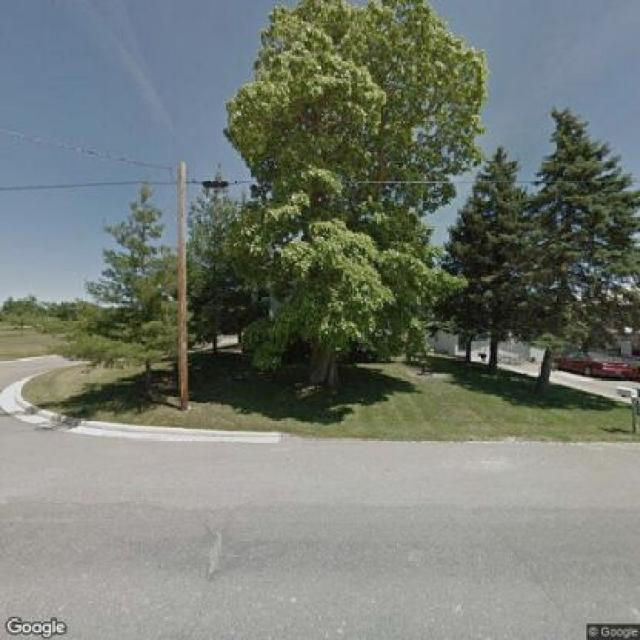pole: (174, 162, 188, 414)
wire: (0, 124, 180, 172), (0, 178, 639, 191)
